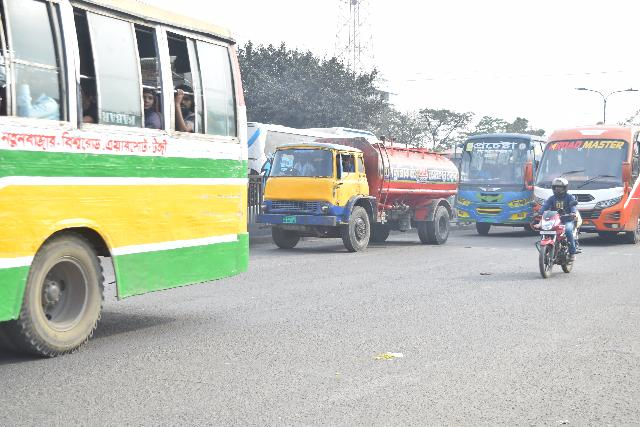bus: (0, 0, 245, 337), (533, 124, 640, 236), (460, 128, 530, 236)
motorcycle: (526, 197, 577, 281)
truck: (260, 128, 456, 260)
